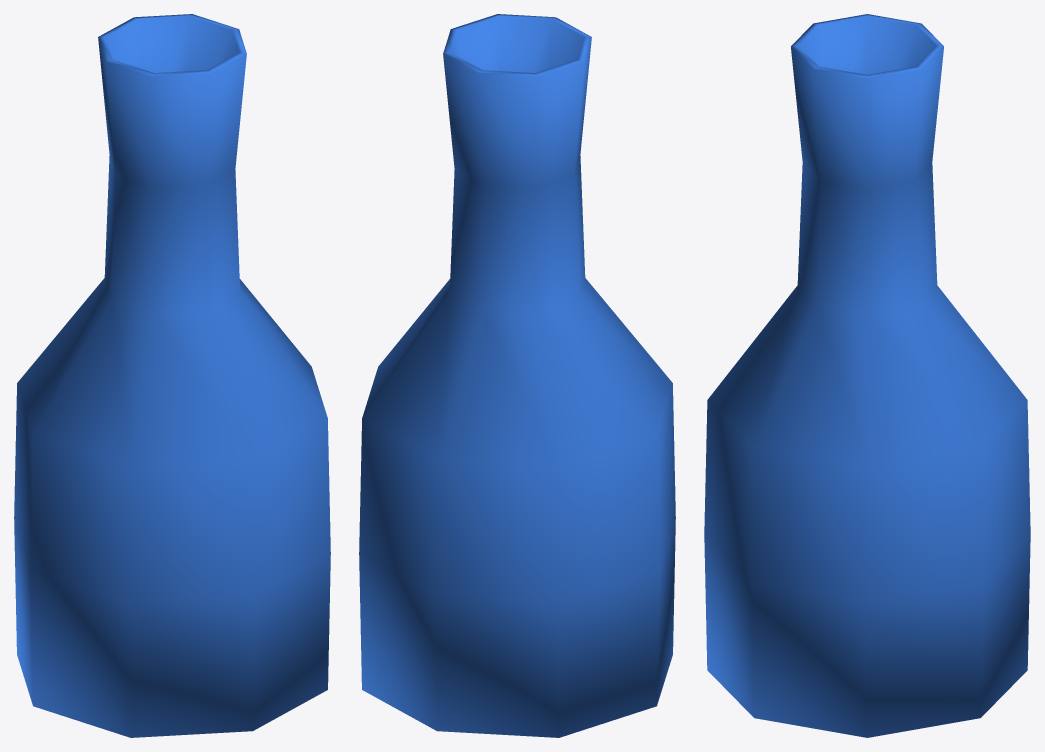
Rendered from Vase2.fbx.
3 views of the same model, side by side, from view 1: azimuth 30°, elevation 25°; view 2: azimuth 150°, elevation 25°; view 3: azimuth 270°, elevation 25° (orthographic).
Visible parts, largest first — view 1: Cylinder.045; view 2: Cylinder.045; view 3: Cylinder.045.
Part boxes in pixels (<box>): Cylinder.045: <box>14,14,330,737</box>; Cylinder.045: <box>359,14,675,737</box>; Cylinder.045: <box>704,14,1030,737</box>.
Bounding box in the file's own units: 70.09 × 148 × 70.09.
